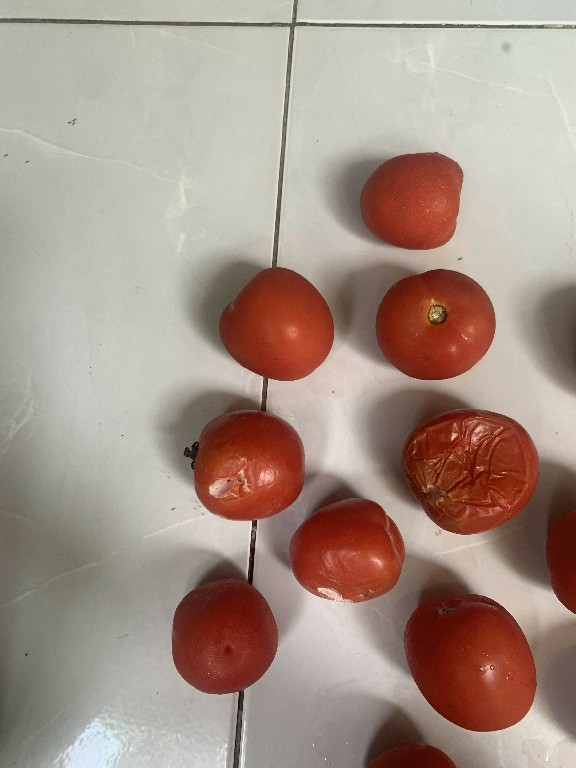NG: (398, 397, 544, 540), (177, 401, 307, 521), (283, 495, 408, 603)
OK: (399, 587, 538, 737), (164, 570, 286, 700), (370, 262, 500, 383), (207, 253, 338, 361), (356, 140, 465, 252)
